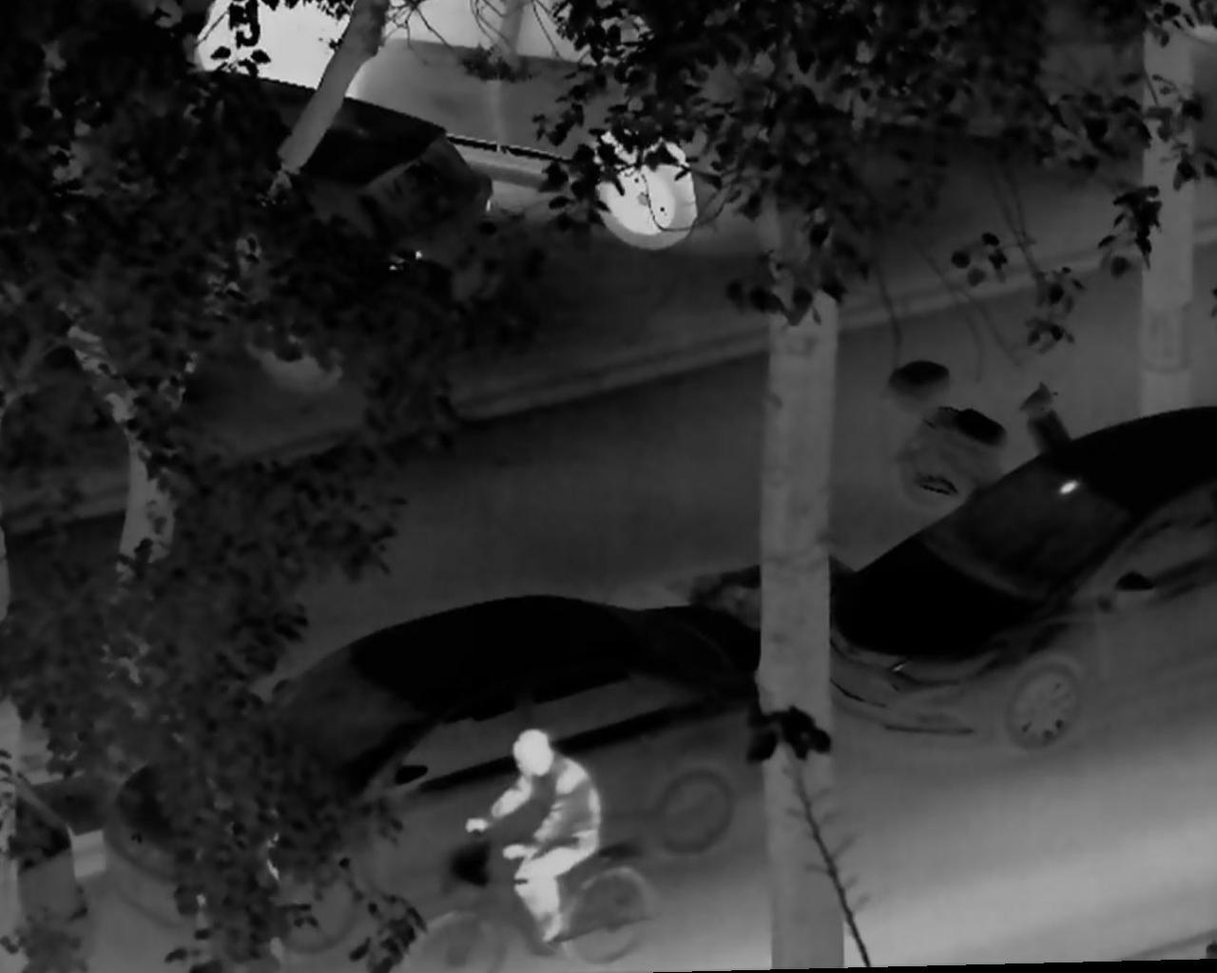person: (456, 726, 601, 946)
